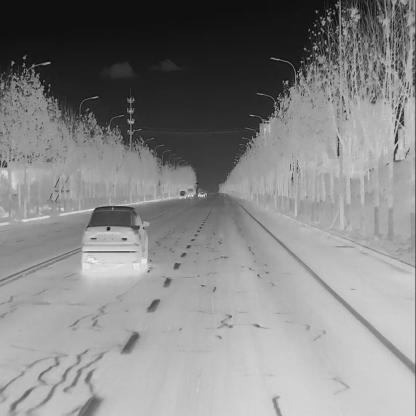car: (80, 203, 149, 271), (197, 190, 205, 198), (179, 190, 186, 199)
truck: (186, 186, 196, 198)
